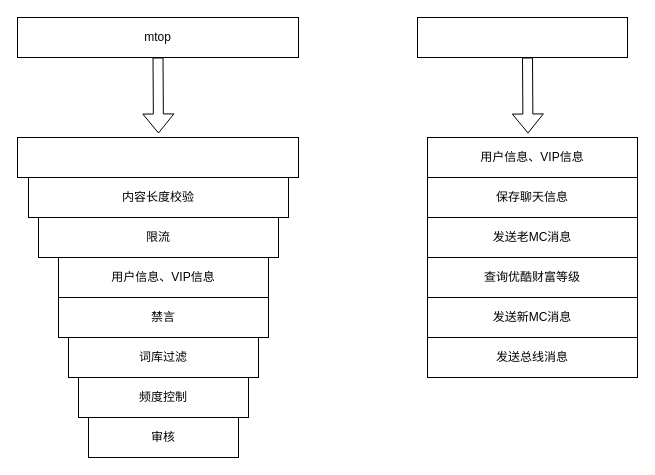
Image size: 655x475. Some labels were removed from this diagram. The shapes that lost their labels are listed below. From the top down, each one's box as (x1, y1, x2, y2) in pixels, then its label:
(416, 16, 628, 58): 审核回调
(16, 136, 298, 178): 聊天入口
